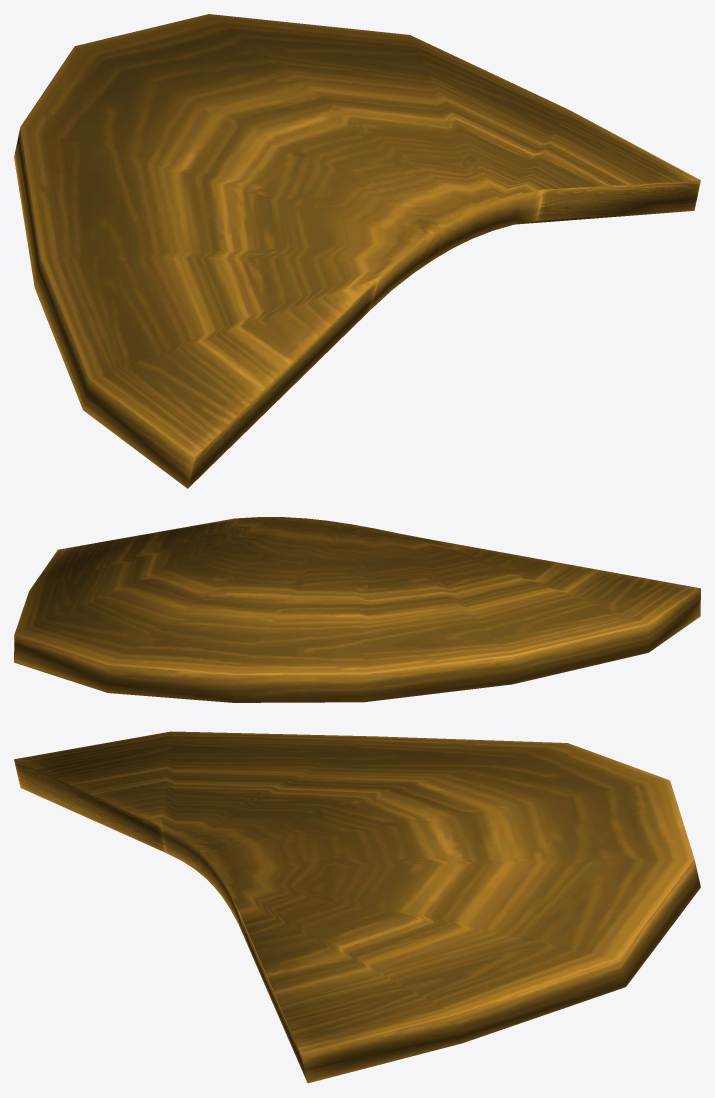
File: HTOWN01_BAGROW2ROOF.fbx
3 renders of one model, top to bottom at view 1: azimuth 30°, elevation 25°; view 2: azimuth 150°, elevation 25°; view 3: azimuth 270°, elevation 25°, orthographic. The views are drawn at different scales.
Visible parts, largest first — view 1: HTOWN01_BAGROW2ROOF; view 2: HTOWN01_BAGROW2ROOF; view 3: HTOWN01_BAGROW2ROOF.
Boxes of the visible parts, x1,y1,x2,y2 form: HTOWN01_BAGROW2ROOF: [14, 14, 700, 488]; HTOWN01_BAGROW2ROOF: [14, 517, 700, 702]; HTOWN01_BAGROW2ROOF: [14, 731, 700, 1083].
Size of the model in its own units: 48969 by 8566 by 46250.
1 material, 1 textured.
